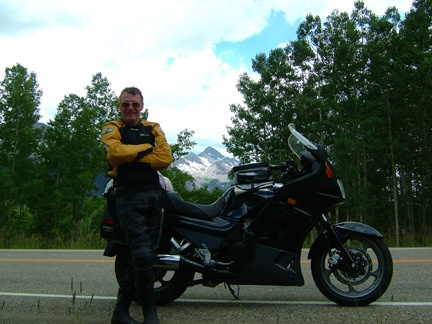person: (99, 83, 173, 323)
